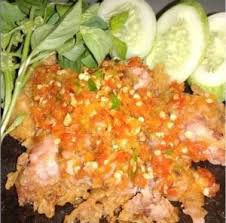ayam_geprek: (18, 53, 226, 219)
